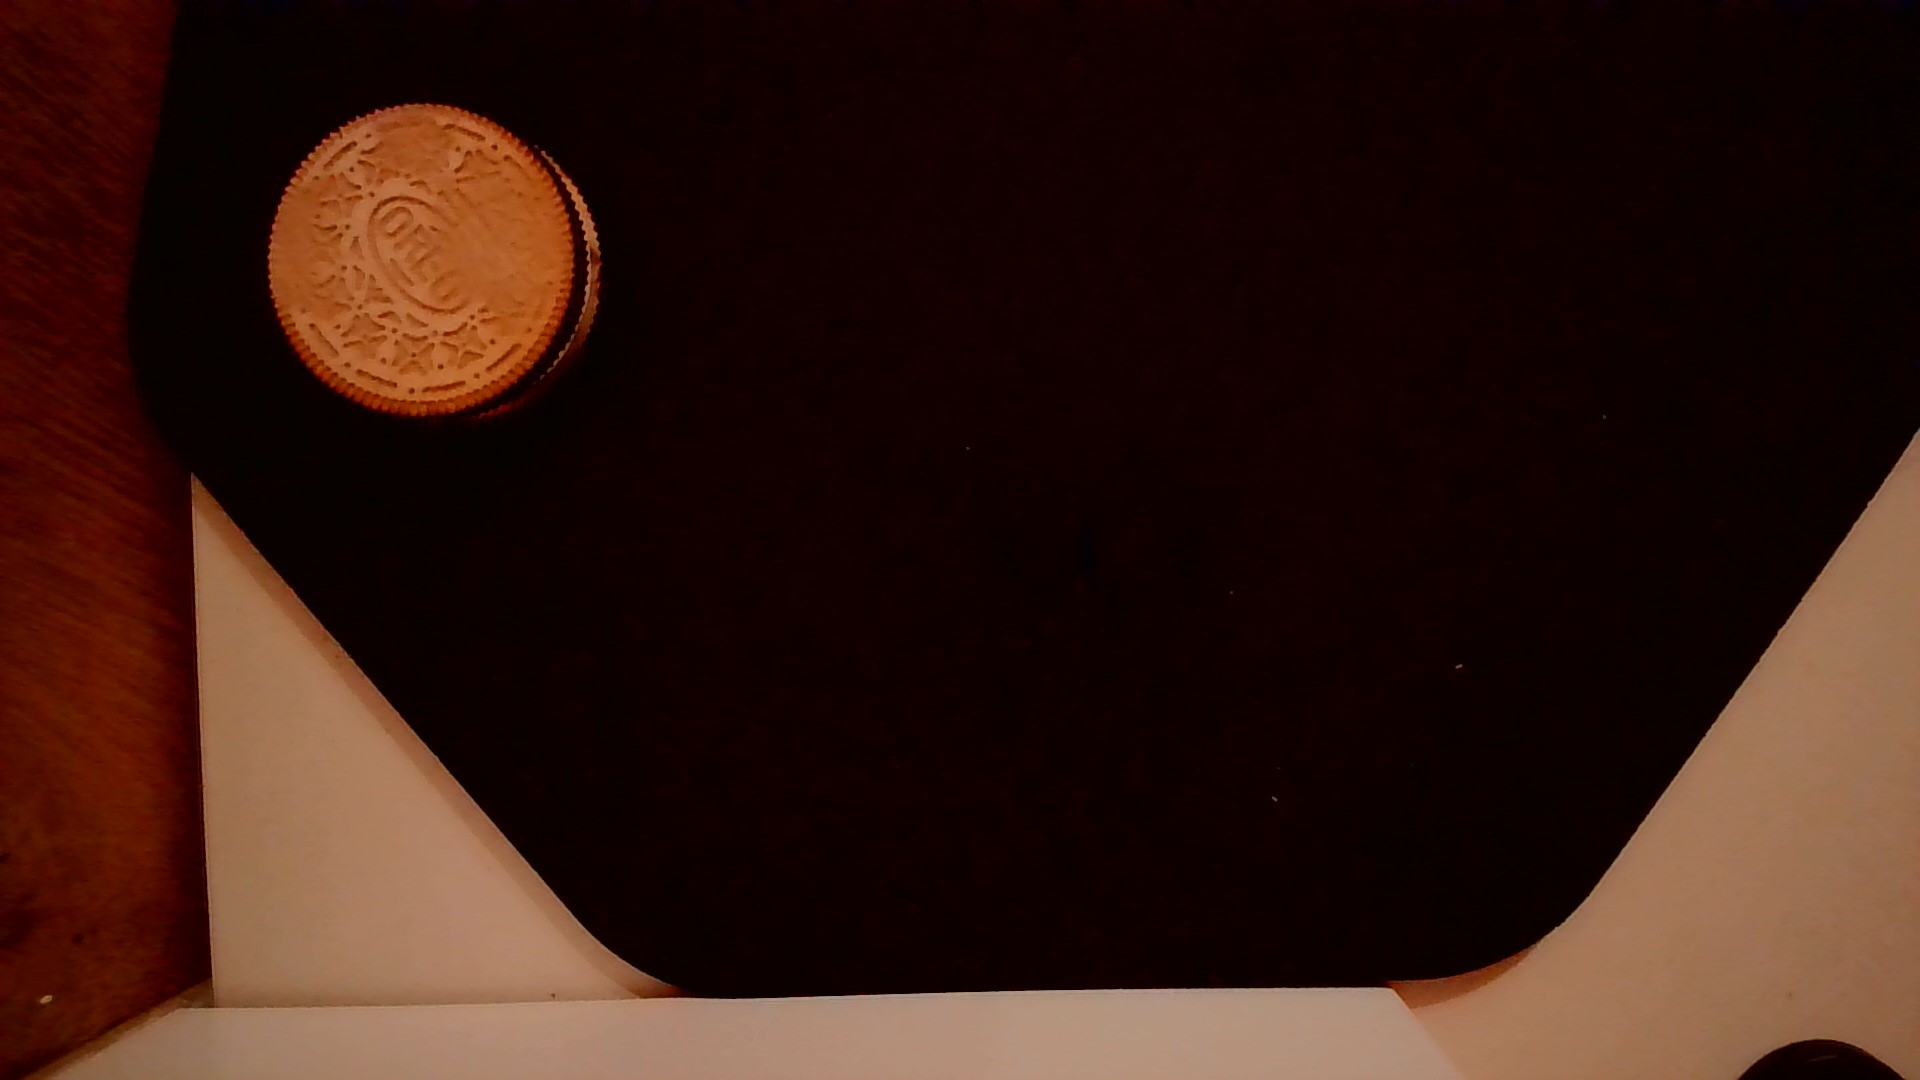Effacé: (448, 170, 556, 348), (264, 179, 330, 339), (371, 105, 452, 175)
Oréo: (262, 98, 608, 433)
